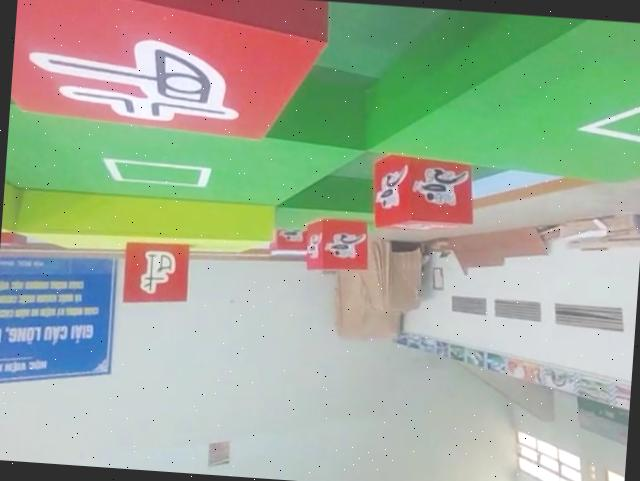R1: (368, 149, 477, 232), (303, 214, 369, 271)
R2 Real: (7, 0, 334, 151), (117, 239, 192, 306)
